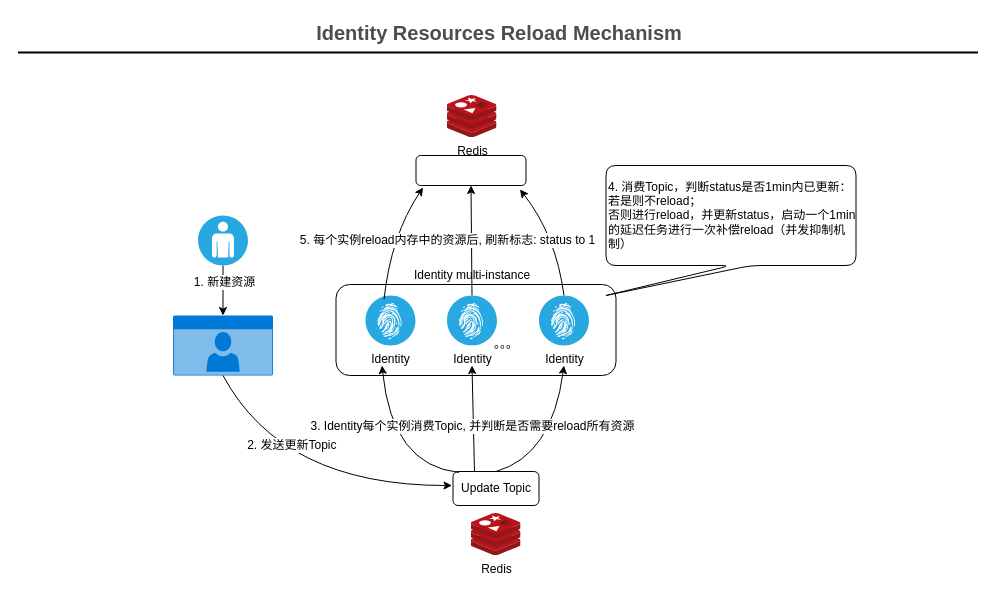
The diagram is 996 pixels wide and 593 high, and some of its shapes have lost their labels. Here are the shapes that lost their labels. From the top down, the box of each, then its label:
(415, 154, 526, 186): Status:1
(172, 315, 272, 375): BackOffice
